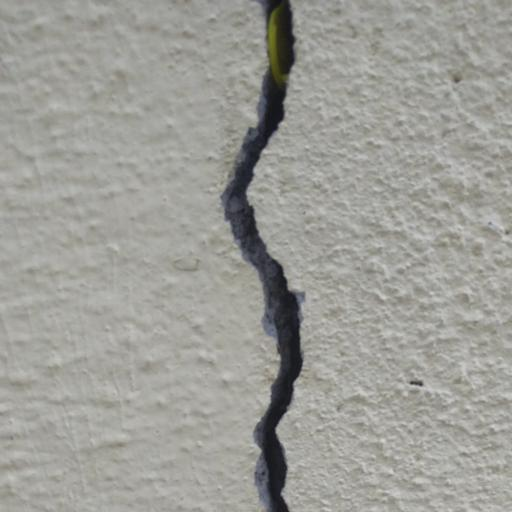major_crack: (216, 0, 334, 512)
